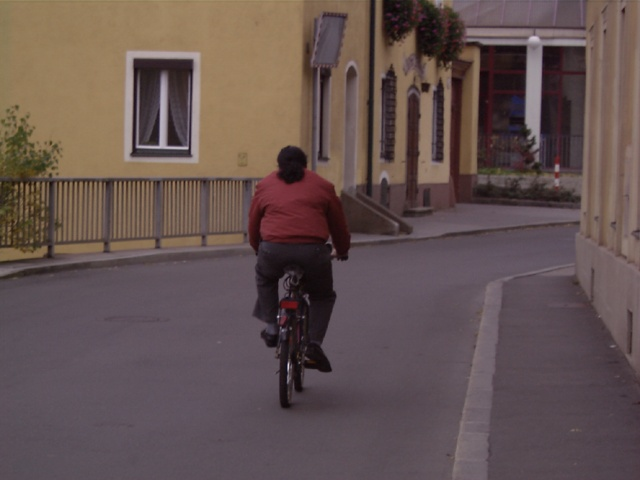person: (250, 146, 339, 382)
